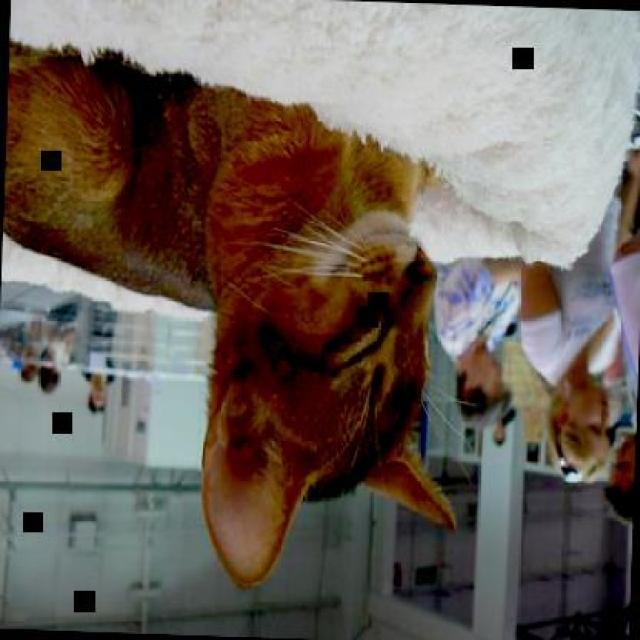cat: (0, 38, 474, 596)
